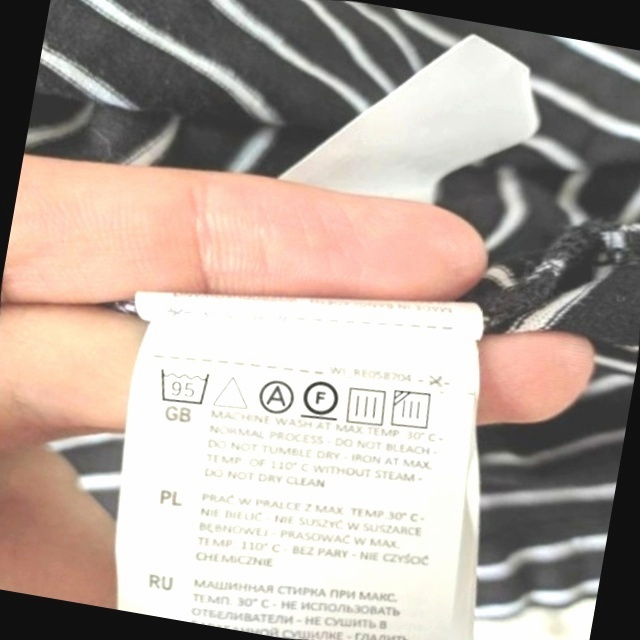95C: (151, 358, 218, 413)
bleach: (209, 366, 255, 417)
drip_dry: (339, 378, 394, 432)
drip_dry_in_shade: (385, 382, 442, 438)
dry_clean: (251, 373, 300, 420)
dry_clean_petrol_only: (296, 370, 347, 427)
